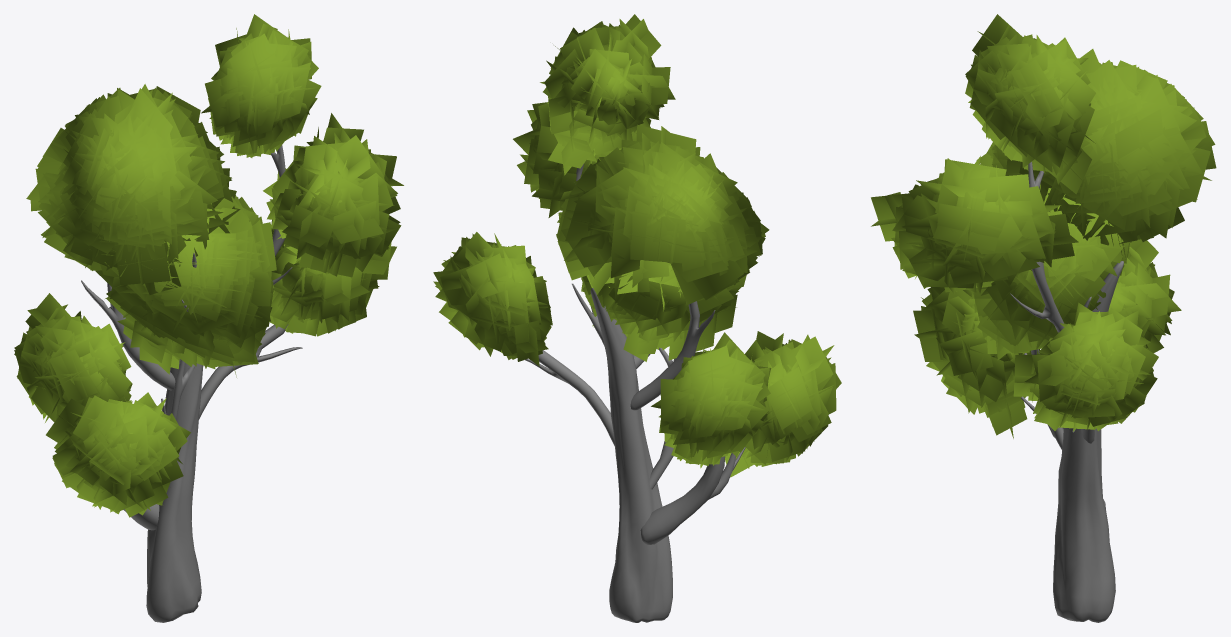
Rendered from SM_tree_special_01.fbx.
3 renders of one model, left to right at view 1: azimuth 30°, elevation 25°; view 2: azimuth 150°, elevation 25°; view 3: azimuth 270°, elevation 25°, orthographic. The views are drawn at different scales.
Parts seen in each view (by area): view 1: Object3427689; view 2: Object3427689; view 3: Object3427689.
Part boxes in pixels (bbox=[...]): Object3427689: bbox=[14, 14, 403, 622]; Object3427689: bbox=[433, 14, 841, 622]; Object3427689: bbox=[871, 14, 1216, 622].
Bounding box in the file's own units: 187 × 285 × 143.
